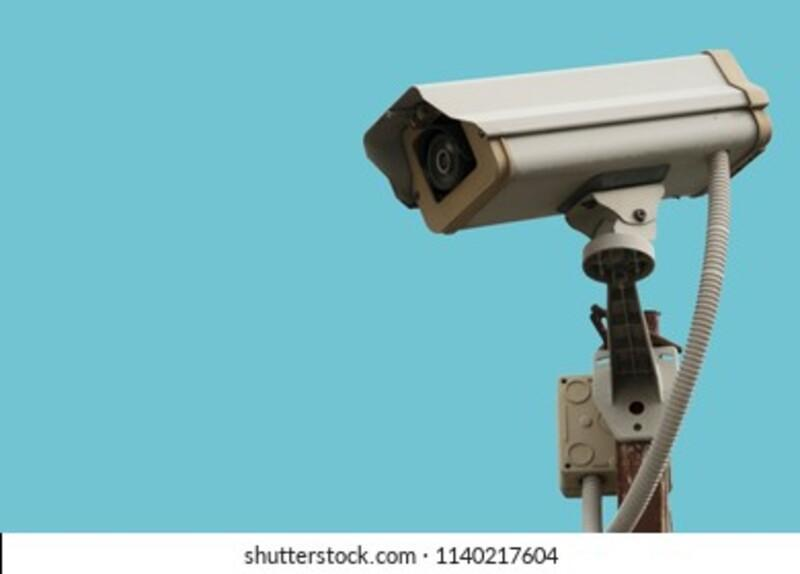box: (353, 85, 755, 246)
